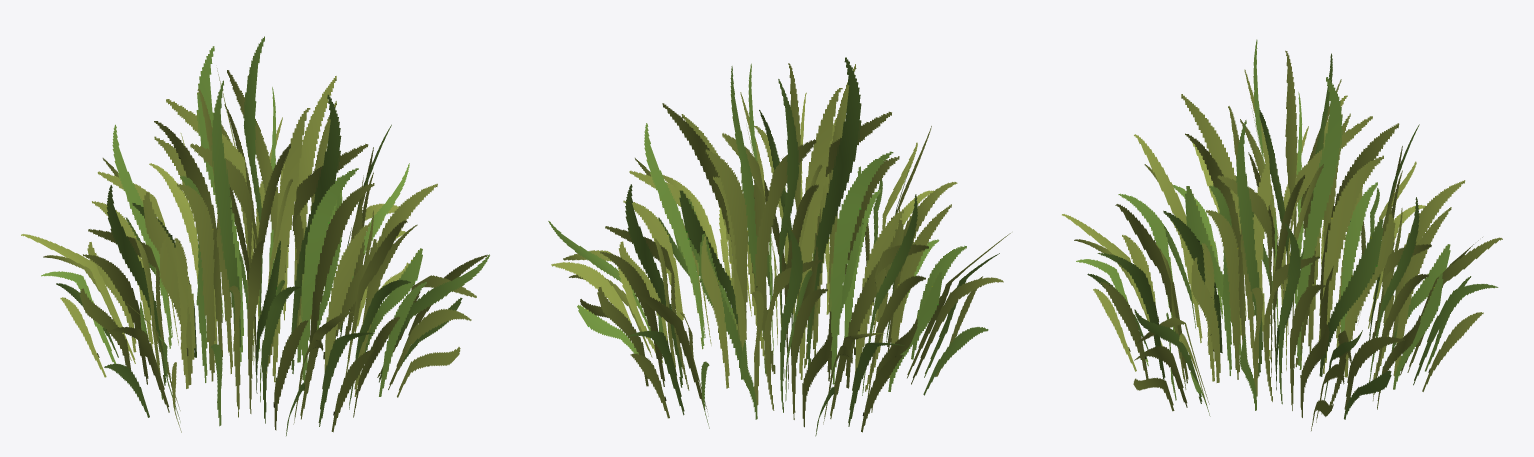
The model's file is Long_Grass_Patch_2.gltf.
The picture shows the model from 3 angles, left to right: view 1: azimuth 30°, elevation 25°; view 2: azimuth 150°, elevation 25°; view 3: azimuth 270°, elevation 25°; orthographic projection. The views are drawn at different scales.
Parts seen in each view (by area): view 1: Long_Grass_Patch_2; view 2: Long_Grass_Patch_2; view 3: Long_Grass_Patch_2.
Boxes of the visible parts, x1,y1,x2,y2 form: Long_Grass_Patch_2: [21, 36, 489, 435]; Long_Grass_Patch_2: [548, 57, 1010, 436]; Long_Grass_Patch_2: [1062, 39, 1502, 430].
Bounding box in the file's own units: 58.69 × 46.09 × 61.1.
1 material, 1 textured.
